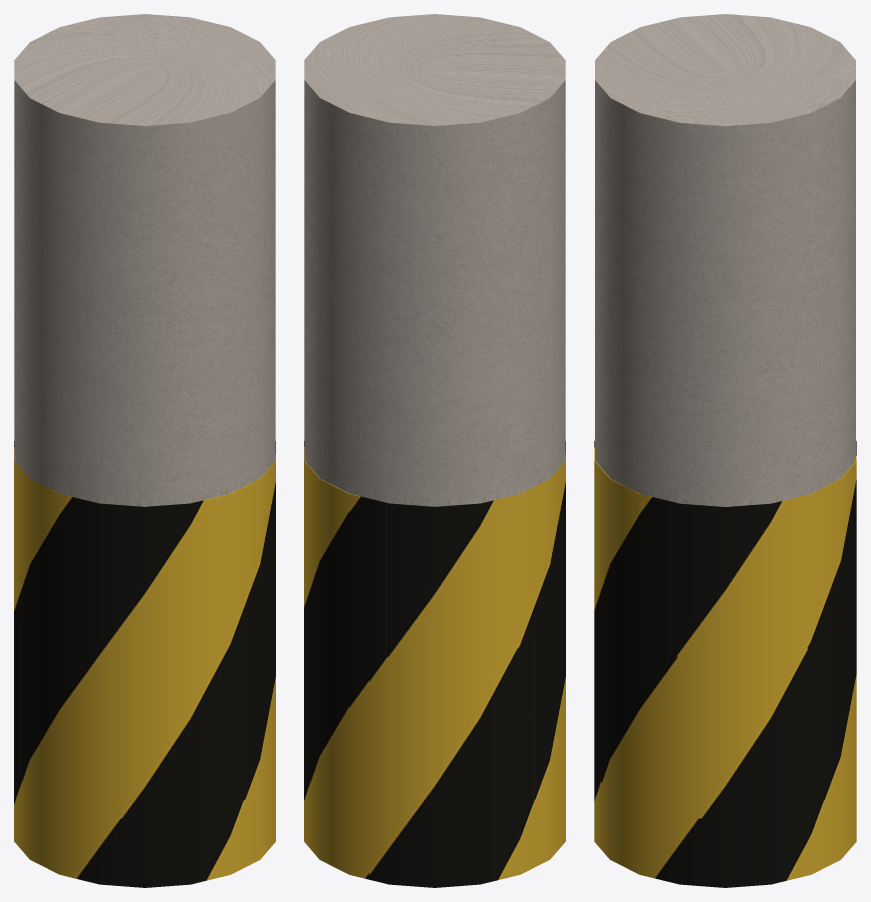
File: Column_Small_Round.FBX
3 views of the same model, side by side, from view 1: azimuth 30°, elevation 25°; view 2: azimuth 150°, elevation 25°; view 3: azimuth 270°, elevation 25° (orthographic).
Parts seen in each view (by area): view 1: Column_Up, Column_Down; view 2: Column_Up, Column_Down; view 3: Column_Up, Column_Down.
Part boxes in pixels (x1,y1,x2,y2): Column_Up: (14,14,275,506); Column_Down: (14,441,275,887); Column_Up: (304,14,565,506); Column_Down: (304,441,565,887); Column_Up: (595,14,855,506); Column_Down: (594,441,856,887).
Bounding box in the file's own units: 632 × 2000 × 625.
